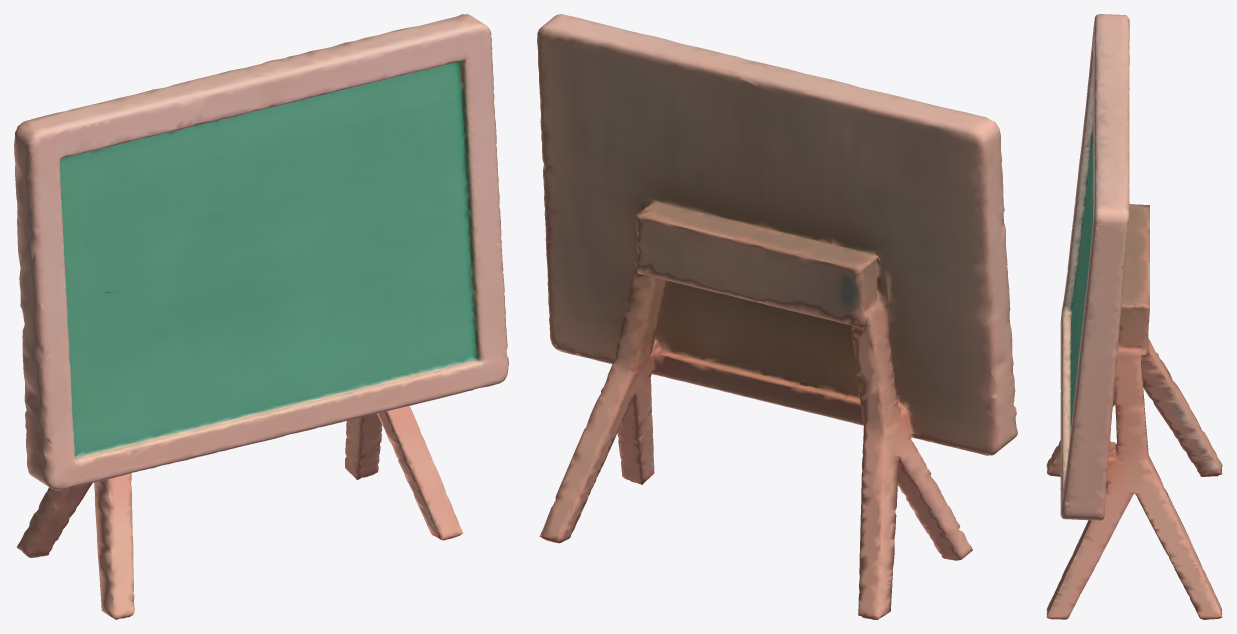
File: chalkboard.glb
The picture shows the model from 3 angles, left to right: view 1: azimuth 30°, elevation 25°; view 2: azimuth 150°, elevation 25°; view 3: azimuth 270°, elevation 25°; orthographic projection. The views are drawn at different scales.
Visible parts, largest first — view 1: model; view 2: model; view 3: model.
Boxes of the visible parts, left/top/right/bottom form: model: left=14, top=14, right=508, bottom=619; model: left=537, top=14, right=1017, bottom=619; model: left=1046, top=14, right=1222, bottom=619.
Size of the model in its own units: 1.9 by 1.9 by 0.6959.
1 material, 1 textured.
